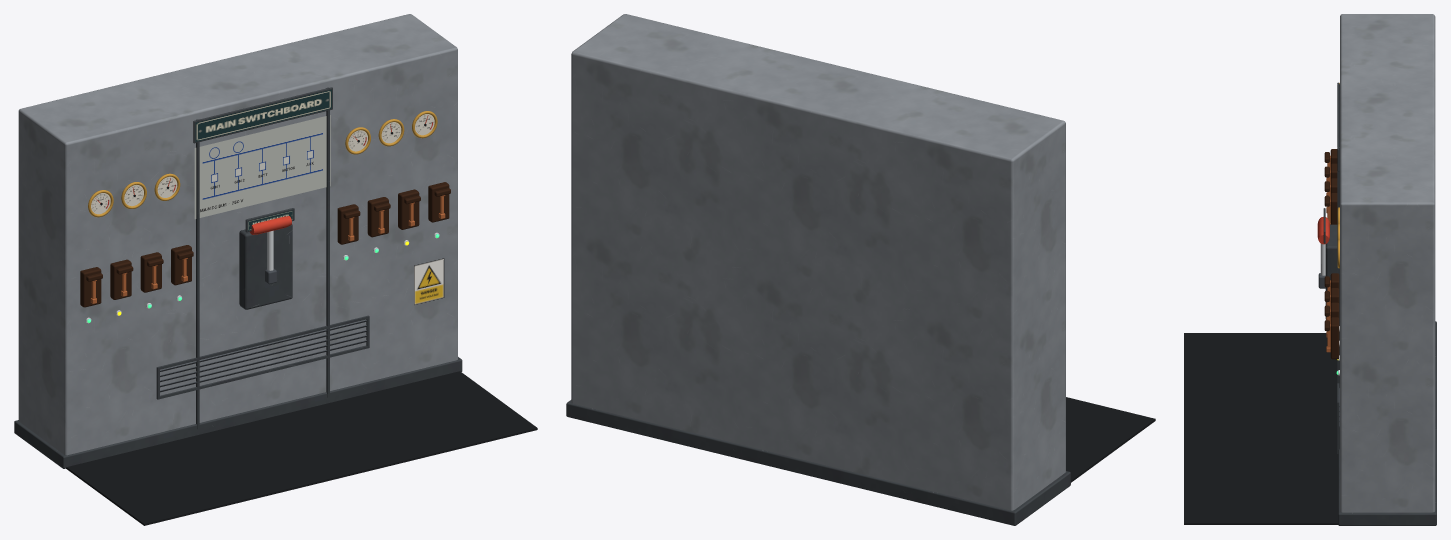
Rendered from MainSwitchboard.glb.
3 renders of one model, left to right at view 1: azimuth 30°, elevation 25°; view 2: azimuth 150°, elevation 25°; view 3: azimuth 270°, elevation 25°, orthographic. The views are drawn at different scales.
Parts seen in each view (by area): view 1: MainSwitchboard_Body, MainSwitchboard_MainBreaker; view 2: MainSwitchboard_Body; view 3: MainSwitchboard_Body, MainSwitchboard_MainBreaker.
Part boxes in pixels (<box>): MainSwitchboard_Body: <box>14,14,537,525</box>; MainSwitchboard_MainBreaker: <box>250,216,291,284</box>; MainSwitchboard_Body: <box>566,14,1155,525</box>; MainSwitchboard_Body: <box>1184,14,1436,525</box>; MainSwitchboard_MainBreaker: <box>1317,217,1329,288</box>.
Bounding box in the file's own units: 2.64 × 2.05 × 1.46.
19 materials, 10 textured.
